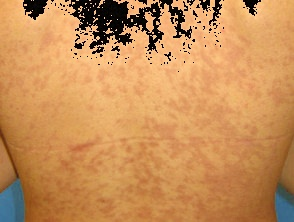SJS-TEN: (0, 10, 287, 222)
